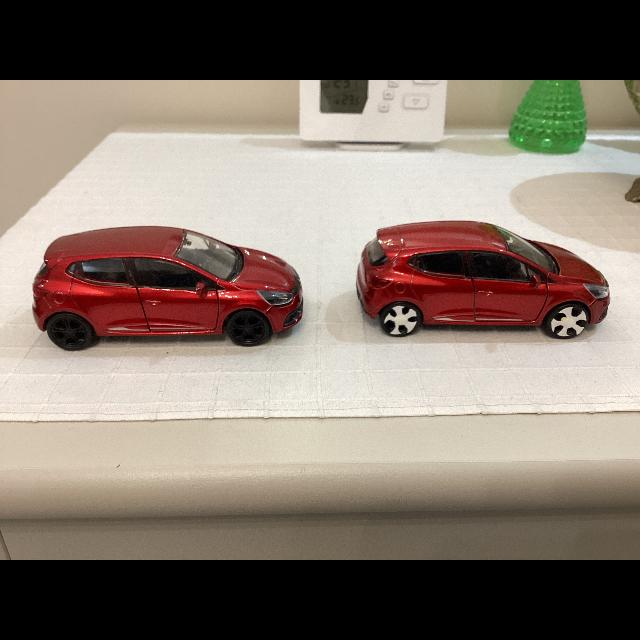Dogru_Jant: (52, 317, 86, 347), (231, 314, 263, 344)
Yanlis_Jant: (550, 306, 588, 338), (382, 304, 418, 336)
